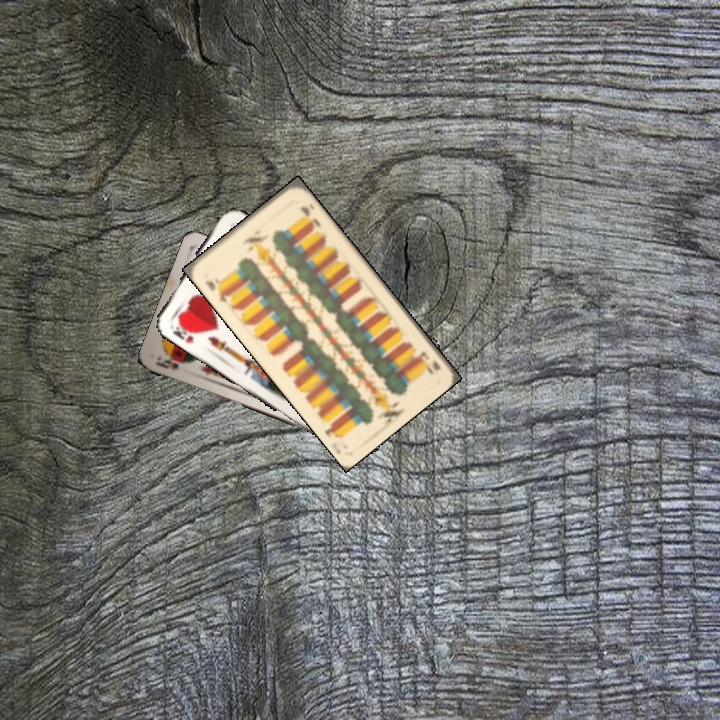E10: (201, 273, 233, 305), (413, 347, 443, 377)
HK: (166, 317, 199, 346)
SK: (151, 352, 187, 373)
